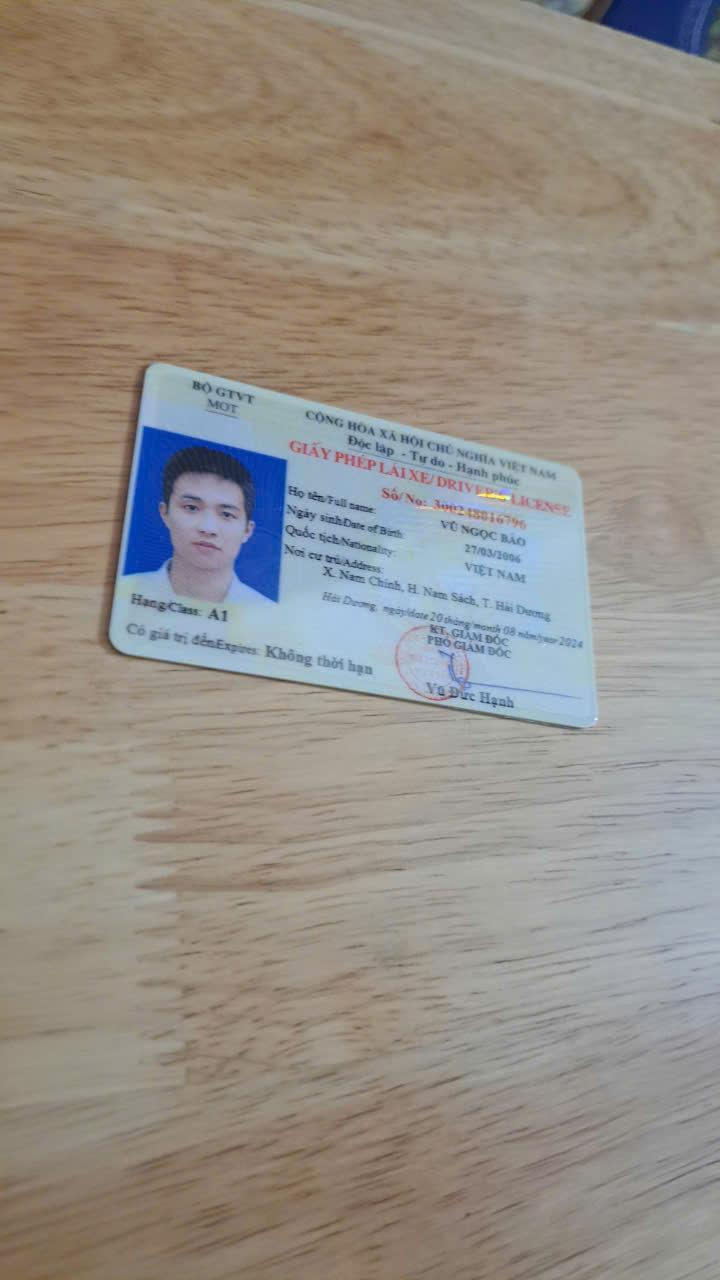gplx: (90, 349, 608, 738)
